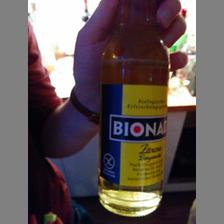Soda: (98, 0, 169, 216)
